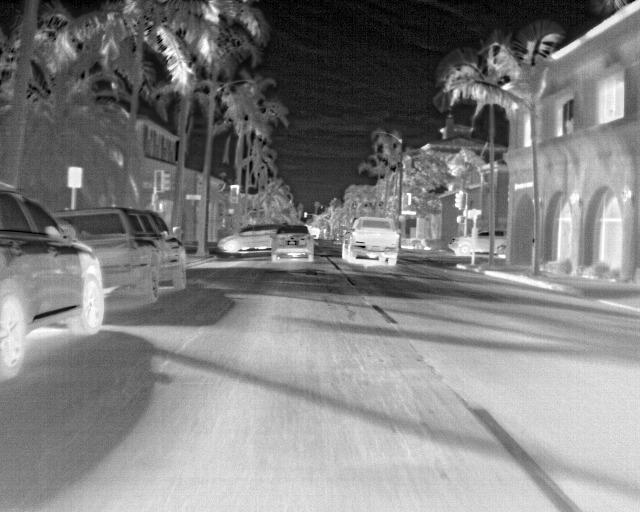car: (0, 181, 105, 379), (52, 207, 186, 304), (342, 217, 399, 265), (218, 225, 280, 252), (270, 225, 316, 261), (449, 229, 508, 255)
light: (163, 172, 171, 192), (231, 188, 238, 203), (159, 201, 169, 211), (454, 193, 460, 207), (226, 208, 235, 216), (404, 195, 408, 207), (399, 215, 405, 222), (468, 210, 473, 218), (456, 217, 461, 223), (304, 212, 307, 218)
sign: (68, 167, 82, 187), (186, 195, 201, 200), (472, 228, 478, 239), (401, 211, 416, 215), (476, 210, 482, 214), (324, 229, 326, 233)
